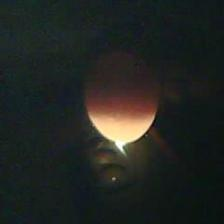fertile: (82, 44, 160, 144)
